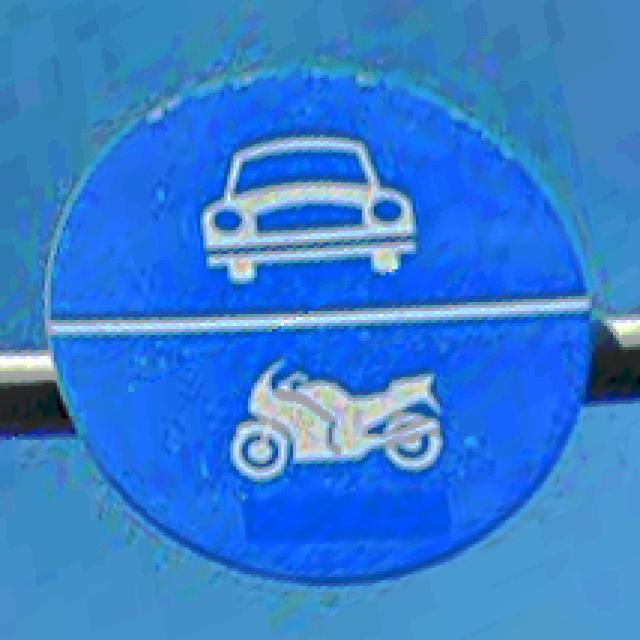carmotorcycle: (45, 60, 592, 583)
